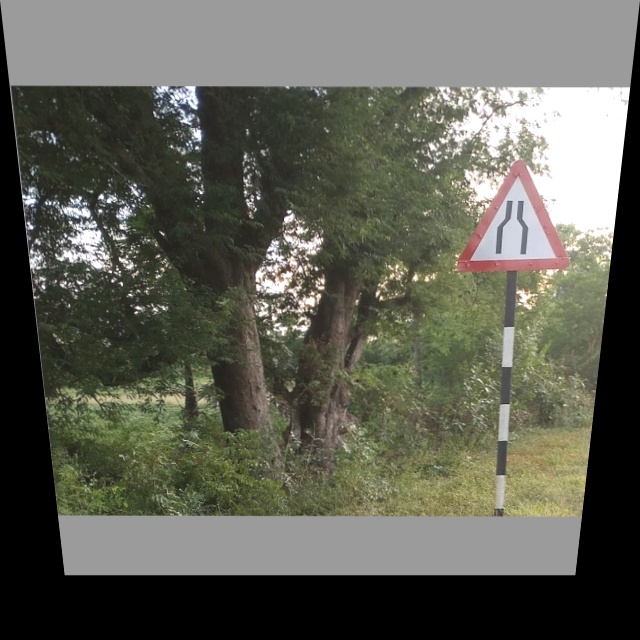Narrow_Road_Ahead: (453, 157, 582, 273)
